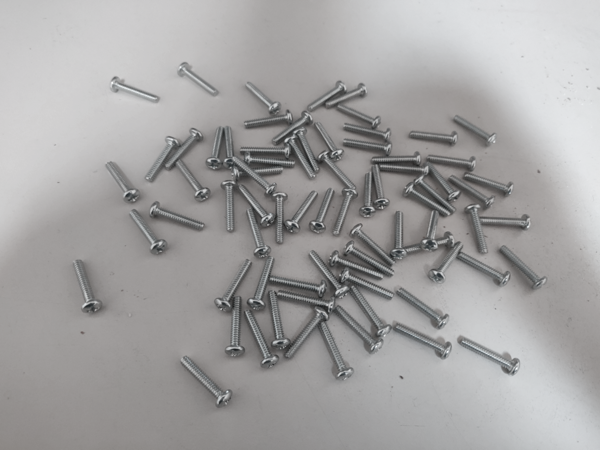longscrew: (178, 361, 234, 406), (398, 285, 452, 330), (333, 308, 384, 352), (463, 336, 520, 374), (286, 307, 326, 360), (459, 246, 509, 288), (395, 321, 450, 358), (349, 288, 391, 336), (310, 249, 351, 298), (242, 312, 277, 369), (316, 323, 351, 380), (505, 241, 543, 291), (216, 259, 251, 310), (354, 226, 397, 266), (399, 183, 450, 216), (260, 291, 290, 347), (231, 156, 275, 194), (339, 270, 395, 299), (429, 241, 467, 283), (345, 245, 396, 276), (316, 153, 357, 191), (247, 259, 278, 309), (270, 270, 327, 297), (70, 262, 100, 313), (145, 137, 179, 182), (165, 128, 203, 168), (455, 112, 499, 146), (130, 212, 165, 254), (153, 202, 205, 230), (415, 178, 457, 212), (238, 186, 274, 225), (453, 173, 494, 207), (174, 162, 210, 200), (284, 192, 317, 233), (397, 234, 458, 256), (305, 191, 338, 231), (426, 159, 459, 199), (283, 136, 315, 177), (328, 256, 385, 279), (280, 288, 334, 312), (272, 113, 312, 145), (104, 164, 138, 201), (465, 205, 491, 253), (110, 76, 157, 101), (179, 64, 218, 94), (244, 212, 271, 255), (292, 130, 320, 171), (245, 83, 281, 114), (334, 190, 357, 236), (227, 294, 244, 356), (314, 121, 342, 158), (468, 171, 515, 193), (307, 82, 346, 108), (337, 103, 381, 126), (343, 137, 393, 156), (346, 121, 394, 140), (371, 163, 389, 211), (245, 152, 298, 168), (411, 128, 458, 146), (427, 153, 478, 169), (329, 85, 365, 107), (245, 112, 294, 128), (223, 181, 238, 232), (423, 208, 438, 258), (380, 162, 431, 176), (271, 192, 284, 244), (242, 144, 293, 156), (223, 127, 238, 167), (362, 172, 374, 221), (394, 212, 405, 263), (209, 128, 223, 168), (232, 165, 285, 174), (372, 155, 423, 164)
